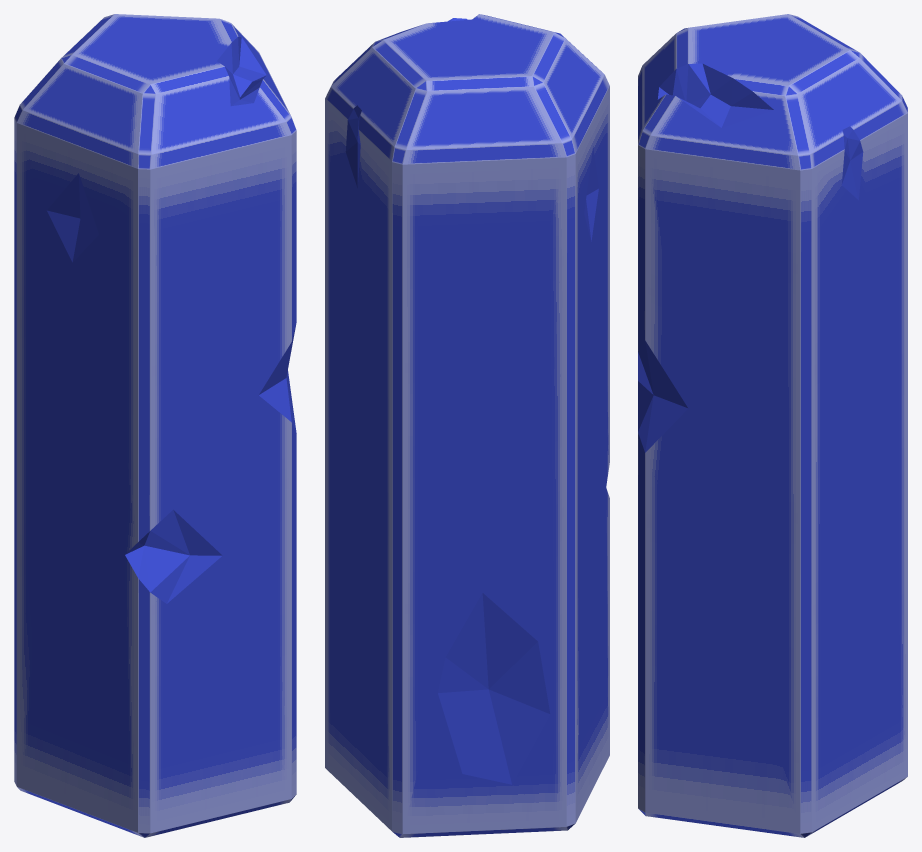
File: crystalTree2.fbx
3 views of the same model, side by side, from view 1: azimuth 30°, elevation 25°; view 2: azimuth 150°, elevation 25°; view 3: azimuth 270°, elevation 25° (orthographic).
Parts seen in each view (by area): view 1: Circle; view 2: Circle; view 3: Circle.
Part boxes in pixels (<box>): Circle: <box>14,14,296,837</box>; Circle: <box>325,14,609,837</box>; Circle: <box>638,14,907,837</box>.
Bounding box in the file's own units: 1.87 × 5.32 × 1.78.
